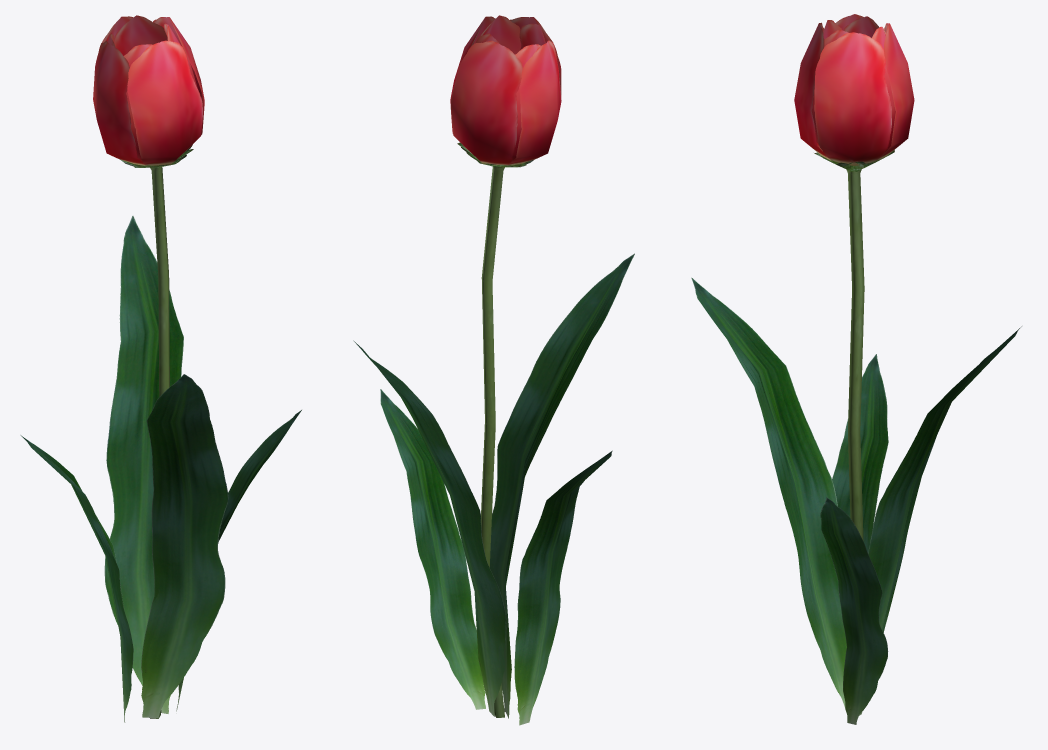
The model's file is Tulip_03.FBX.
3 views of the same model, side by side, from view 1: azimuth 30°, elevation 25°; view 2: azimuth 150°, elevation 25°; view 3: azimuth 270°, elevation 25° (orthographic).
Visible parts, largest first — view 1: Tulip_03; view 2: Tulip_03; view 3: Tulip_03.
Boxes of the visible parts, x1,y1,x2,y2 form: Tulip_03: (20,15,301,722); Tulip_03: (353,15,634,725); Tulip_03: (691,14,1021,724).
Size of the model in its own units: 0.4845 by 1.2 by 0.5585.
